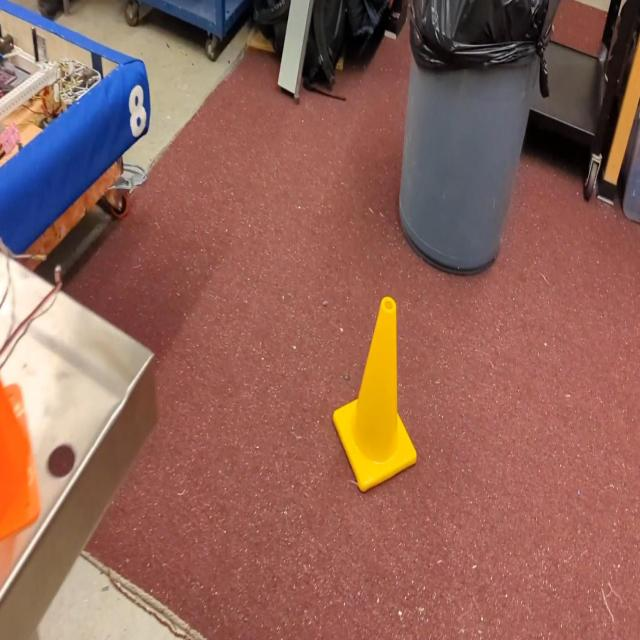frc_cone: (333, 296, 416, 492)
